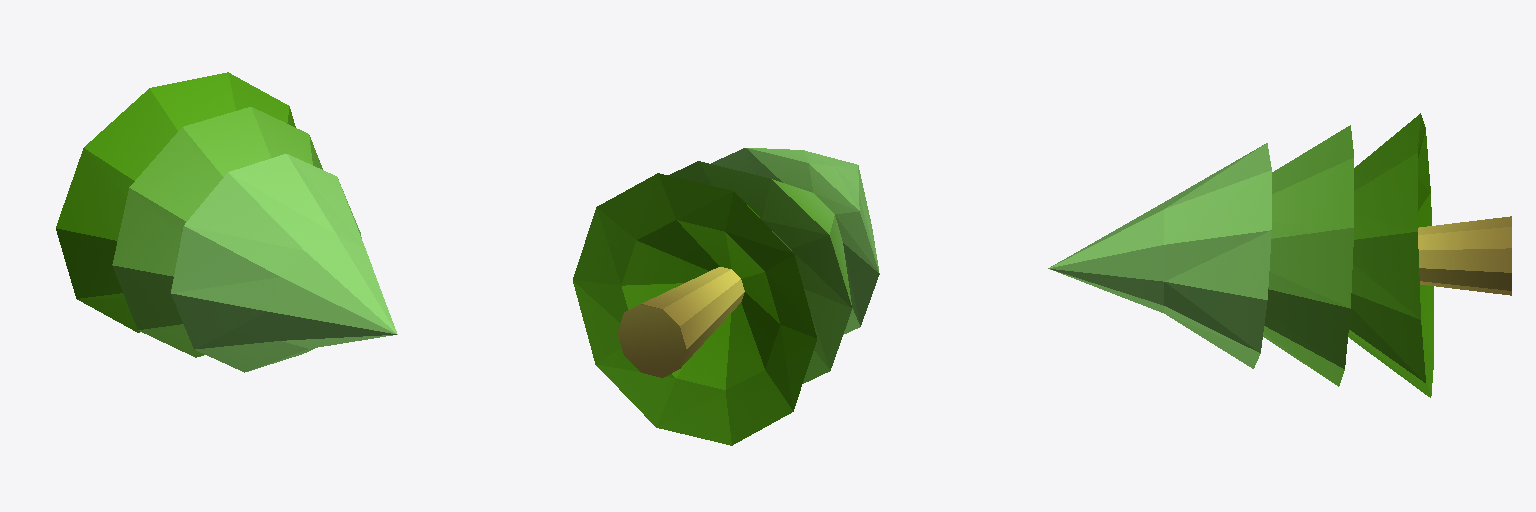
3 renders of one model, left to right at view 1: azimuth 30°, elevation 25°; view 2: azimuth 150°, elevation 25°; view 3: azimuth 270°, elevation 25°, orthographic.
Parts seen in each view (by area): view 1: Cone.001_Cone.002; view 2: Cone.001_Cone.002; view 3: Cone.001_Cone.002.
Part boxes in pixels (x1,y1,x2,y2): Cone.001_Cone.002: (56,72,397,372); Cone.001_Cone.002: (573,148,879,445); Cone.001_Cone.002: (1048,113,1511,397).
Size of the model in its own units: 2.49 by 2.39 by 4.01.
Materials: 1 (1 with a texture image).